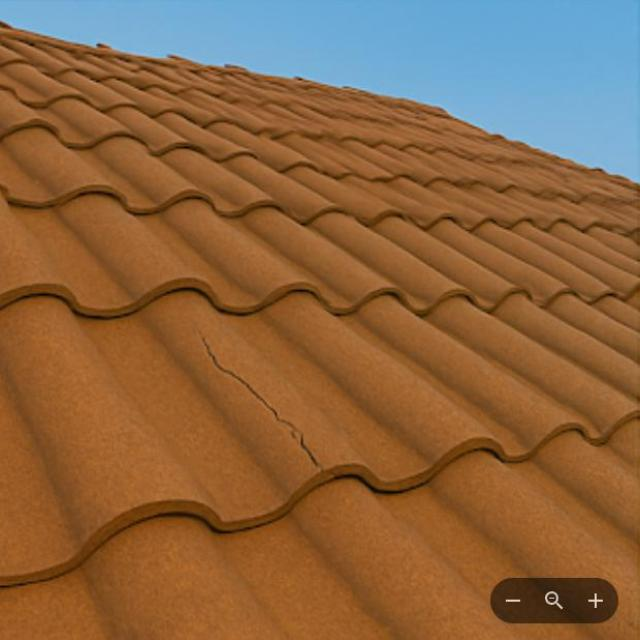fissure: (197, 326, 325, 476)
